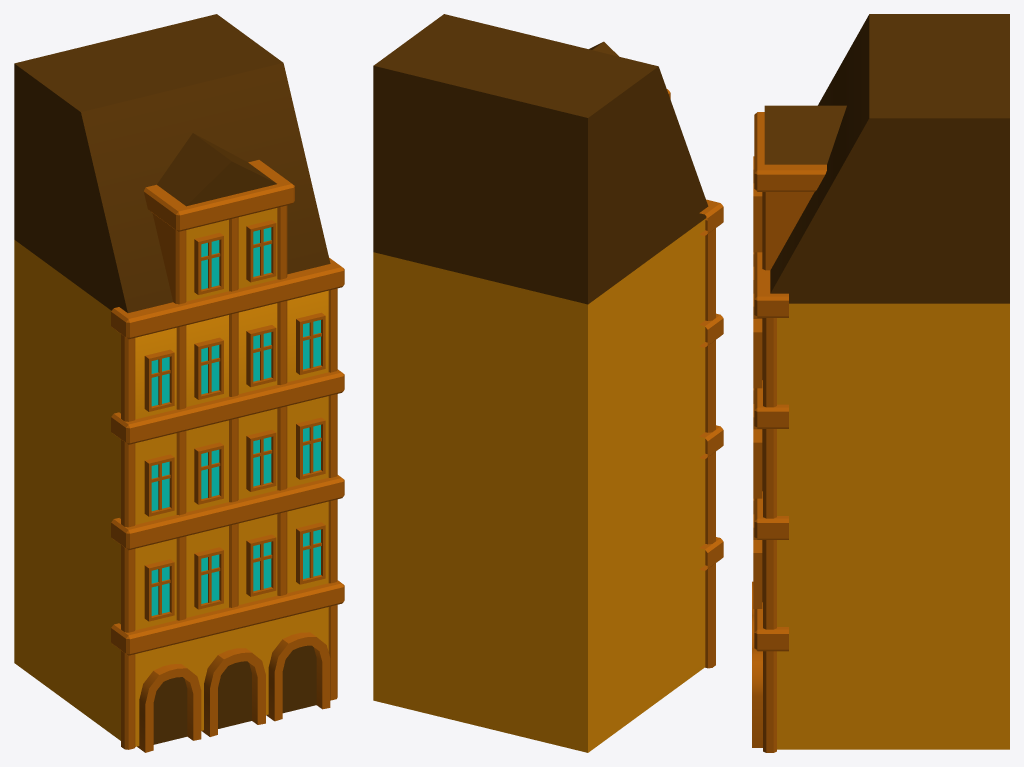
Rendered from mdl_poland_kamienica_2.gltf.
3 renders of one model, left to right at view 1: azimuth 30°, elevation 25°; view 2: azimuth 150°, elevation 25°; view 3: azimuth 270°, elevation 25°, orthographic. The views are drawn at different scales.
Parts seen in each view (by area): view 1: Cube.018, Cube.021, Cube.022, Cube.030, Cube.026, Cube.024, Cube.033, Cube.023, Cube.019, Cube.027, Cube.020, Cube.029 (+2 smaller); view 2: Cube.018, Cube.026; view 3: Cube.018, Cube.026, Cube.033, Cube.024, Cube.034, Cube.022, Cube.023, Cube.030, Cube.027, Cube.019, Cube.020, Cube.021.
Boxes of the visible parts, x1=… form: Cube.018: x1=14, y1=14, x2=330, y2=746; Cube.021: x1=194, y1=220, x2=276, y2=609; Cube.022: x1=144, y1=312, x2=325, y2=621; Cube.030: x1=137, y1=632, x2=330, y2=752; Cube.026: x1=121, y1=288, x2=337, y2=749; Cube.024: x1=152, y1=205, x2=287, y2=620; Cube.033: x1=157, y1=133, x2=277, y2=301; Cube.023: x1=111, y1=257, x2=344, y2=339; Cube.019: x1=111, y1=369, x2=344, y2=444; Cube.027: x1=111, y1=580, x2=344, y2=655; Cube.020: x1=111, y1=475, x2=344, y2=550; Cube.029: x1=202, y1=648, x2=265, y2=736; Cube.018: x1=373, y1=14, x2=708, y2=752; Cube.026: x1=705, y1=217, x2=715, y2=668; Cube.018: x1=770, y1=14, x2=1009, y2=749; Cube.026: x1=763, y1=318, x2=776, y2=752; Cube.033: x1=764, y1=105, x2=846, y2=164; Cube.024: x1=762, y1=192, x2=814, y2=602; Cube.034: x1=754, y1=112, x2=826, y2=191; Cube.022: x1=753, y1=252, x2=762, y2=608; Cube.023: x1=754, y1=252, x2=788, y2=317; Cube.030: x1=752, y1=581, x2=762, y2=747; Cube.027: x1=754, y1=602, x2=788, y2=651; Cube.019: x1=754, y1=380, x2=788, y2=428; Cube.020: x1=754, y1=491, x2=788, y2=539; Cube.021: x1=753, y1=156, x2=762, y2=539.
Bounding box in the file's own units: 1.67 × 4.41 × 1.62.
2 materials, 2 textured.
